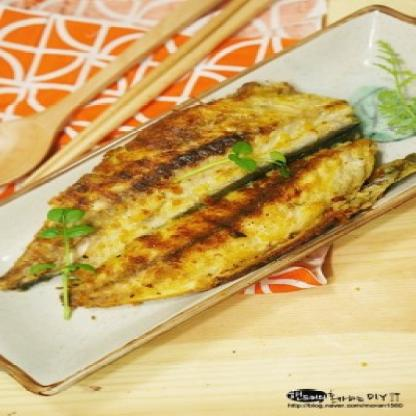Peixe: (4, 78, 362, 326)
